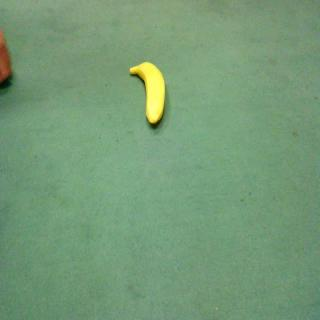banana: (130, 57, 170, 138)
